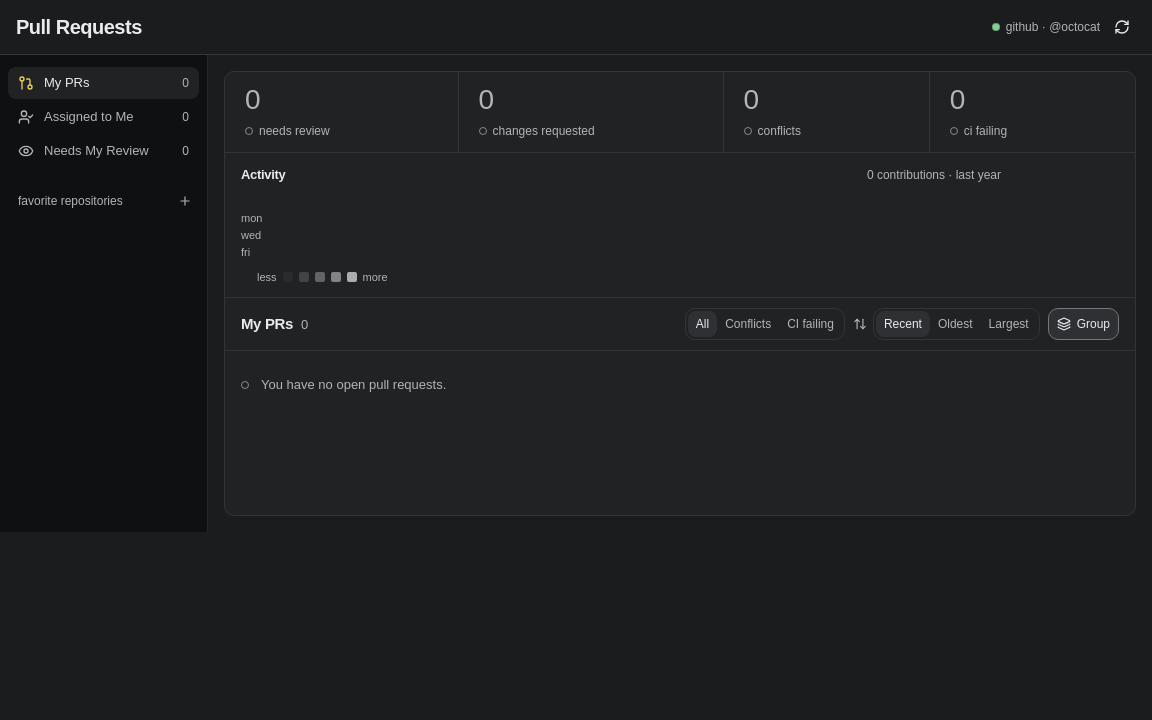
Test: PrsPage › flags a section that failed to refresh
Click the button "Needs My Review 0" at (104, 151), box [8, 135, 199, 167]
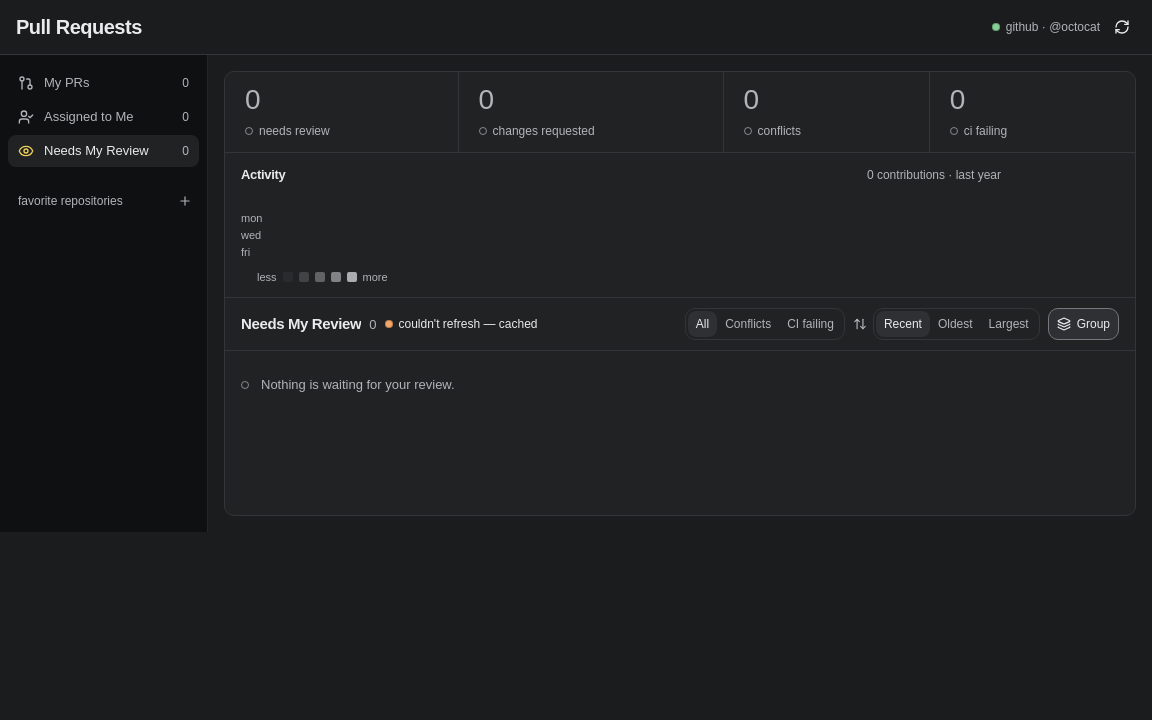
Result: the text "couldn't refresh — cached" is shown at [384, 315, 538, 333]
